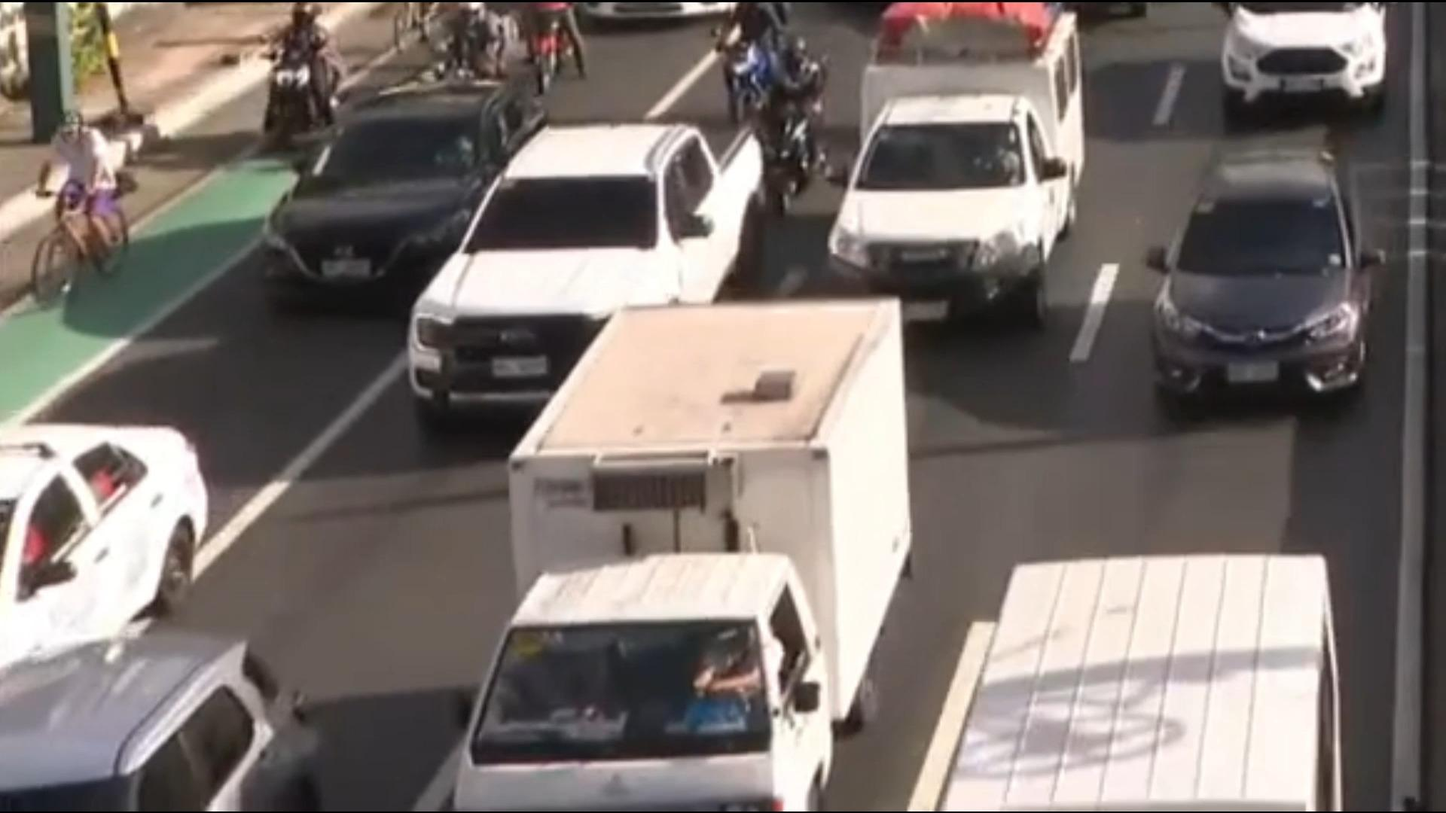Bicycle: (0, 81, 172, 336)
Motorcycle: (256, 0, 354, 155), (777, 15, 833, 226), (712, 0, 784, 127), (540, 0, 599, 95), (451, 0, 514, 83)
Multicab: (861, 518, 1397, 813), (802, 6, 1113, 371)
Pickup: (397, 94, 787, 428)
Sedan: (1140, 128, 1420, 458), (251, 74, 561, 306), (0, 397, 243, 678)
Truck: (412, 279, 976, 813)
